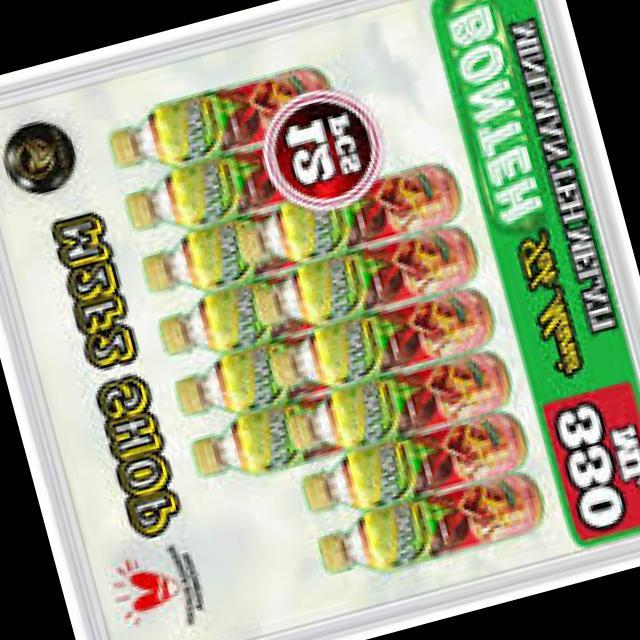good: (82, 36, 336, 186), (102, 124, 359, 258), (216, 142, 464, 278), (243, 211, 487, 344), (289, 402, 530, 528), (262, 282, 498, 410), (313, 468, 552, 592), (284, 354, 512, 469), (158, 311, 374, 429), (128, 198, 341, 316), (176, 378, 375, 498), (150, 268, 348, 372)
